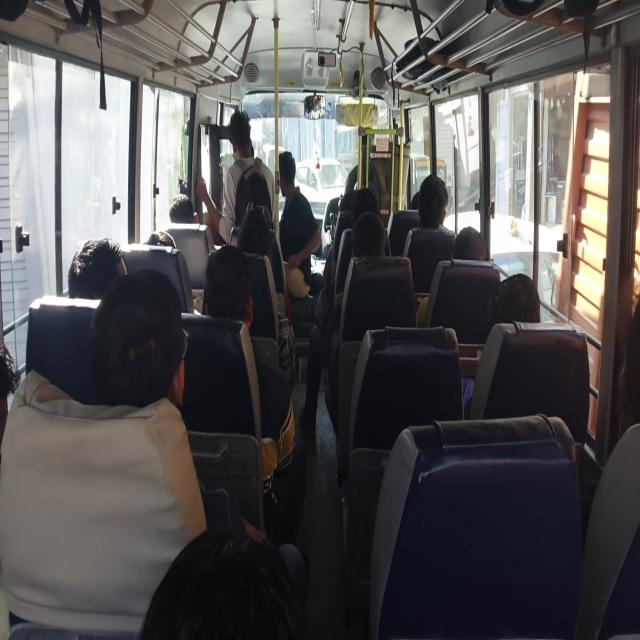person: (139, 528, 301, 638), (89, 268, 185, 413), (569, 283, 640, 459), (428, 228, 492, 334), (278, 151, 322, 290), (403, 173, 456, 288), (162, 200, 214, 305), (200, 243, 252, 326), (67, 237, 124, 302), (489, 272, 542, 330), (237, 204, 274, 257), (350, 209, 387, 259), (226, 106, 254, 170), (418, 172, 449, 228), (453, 225, 488, 263), (350, 187, 380, 226), (168, 194, 197, 224), (342, 164, 360, 205), (144, 230, 176, 248), (410, 191, 420, 211)
